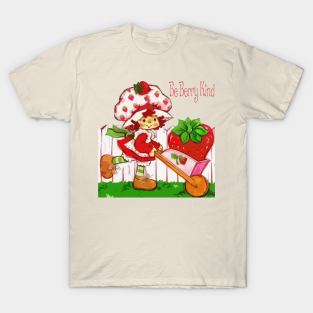design: (96, 78, 219, 200)
